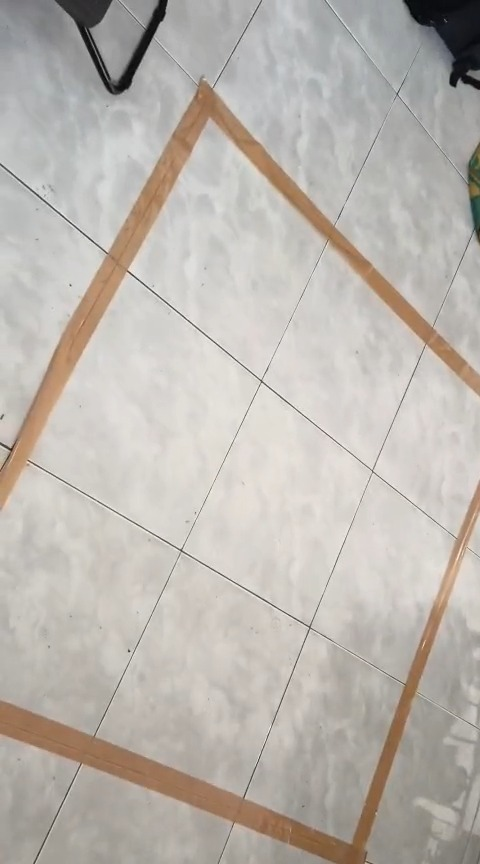floor marking: (0, 81, 479, 507), (0, 481, 479, 863)
